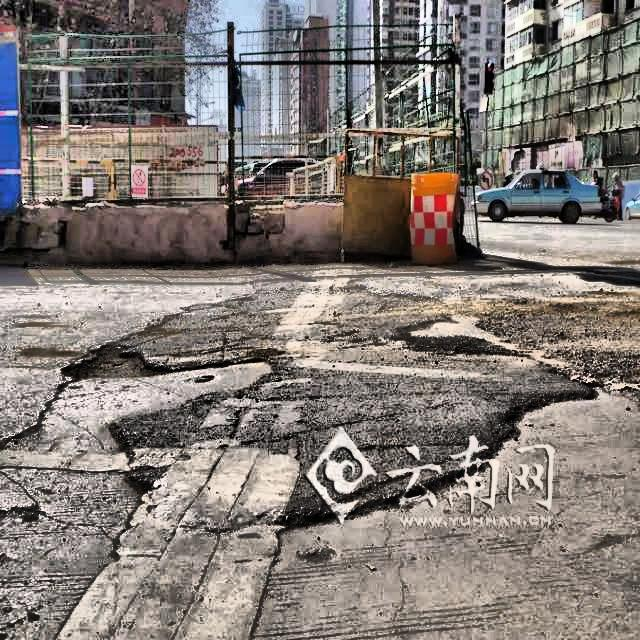buraco: (397, 316, 520, 358), (64, 341, 174, 382)
